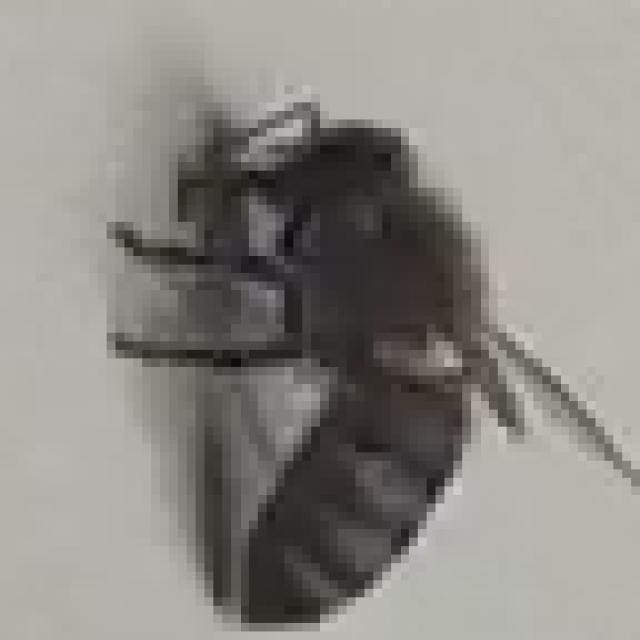honeybee: (110, 124, 537, 608)
